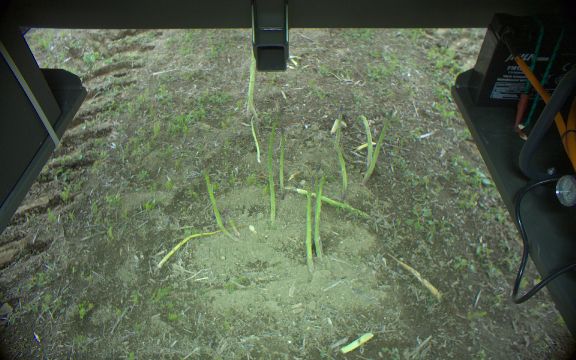aspa: (285, 183, 367, 221), (203, 176, 233, 241), (261, 120, 279, 224), (368, 111, 394, 179), (301, 182, 316, 273), (244, 50, 259, 118), (314, 165, 324, 263), (336, 146, 352, 203), (276, 129, 289, 198), (356, 112, 373, 162), (333, 102, 348, 143), (223, 208, 241, 238)
